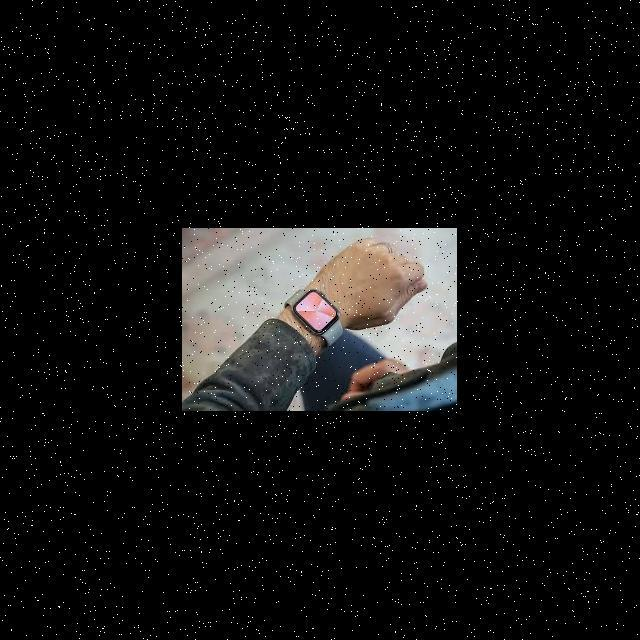watch: (268, 285, 358, 353)
